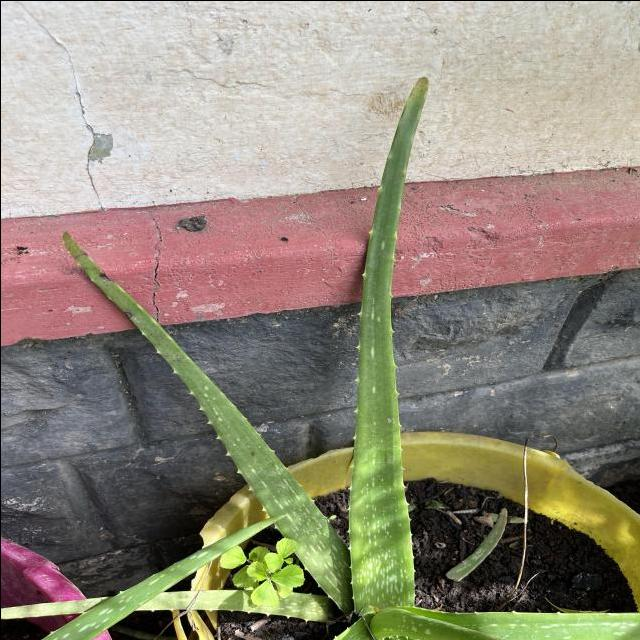Aloe vera: (58, 226, 348, 594), (341, 73, 439, 610)
